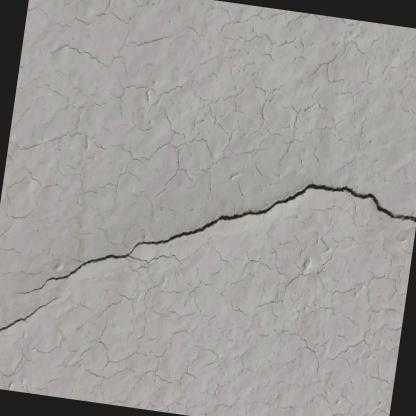crack: (16, 180, 416, 294), (0, 295, 59, 330)
